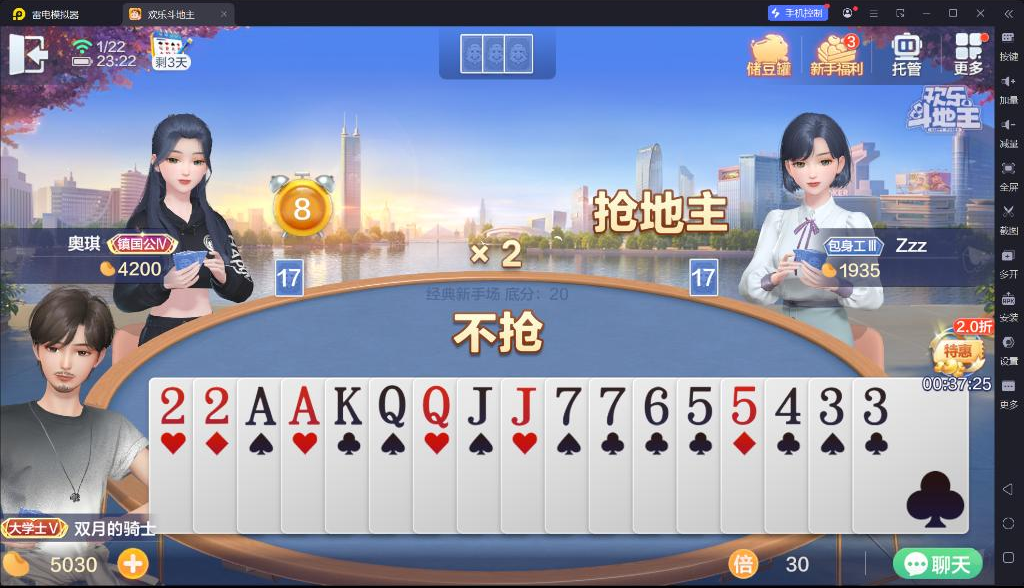A: (286, 381, 322, 427), (243, 382, 277, 428)
J: (506, 384, 539, 427), (463, 384, 495, 428)
K: (330, 381, 364, 427)
Q: (374, 382, 408, 429), (419, 382, 452, 429)
five: (726, 383, 760, 426), (682, 383, 715, 427)
four: (771, 384, 803, 427)
seven: (551, 383, 583, 428), (595, 381, 625, 427)
six: (640, 381, 670, 427)
three: (860, 384, 889, 427), (816, 384, 845, 427)
two: (201, 383, 233, 427), (156, 383, 188, 425)
